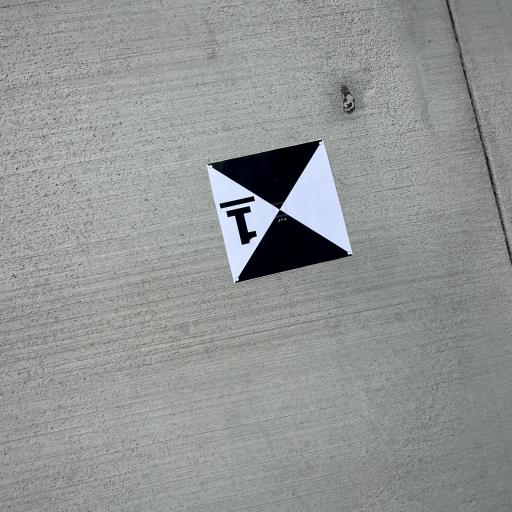target1: (204, 135, 356, 286)
